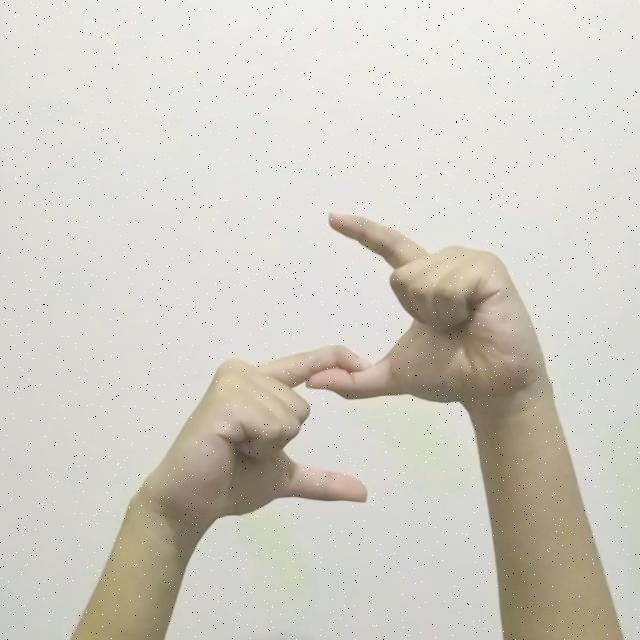S: (130, 188, 564, 558)
